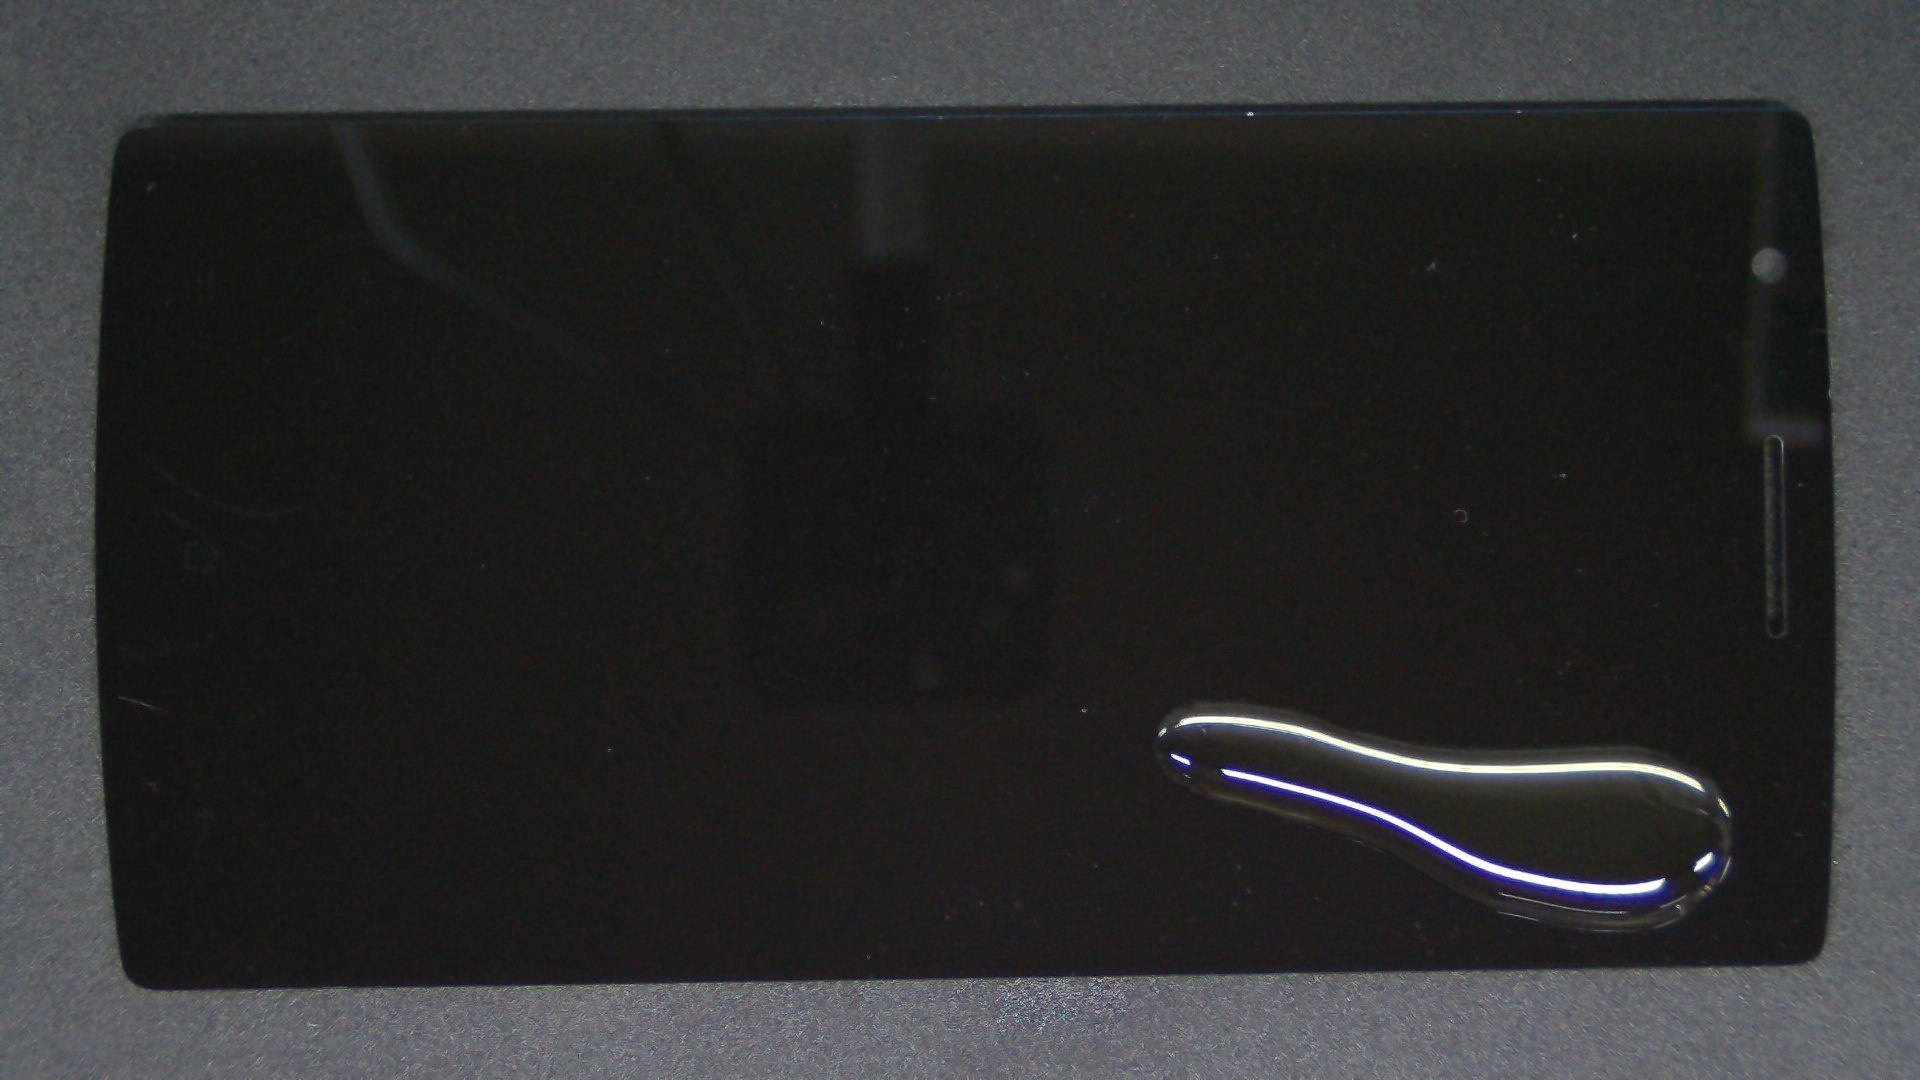oil: (597, 351, 1792, 1055)
